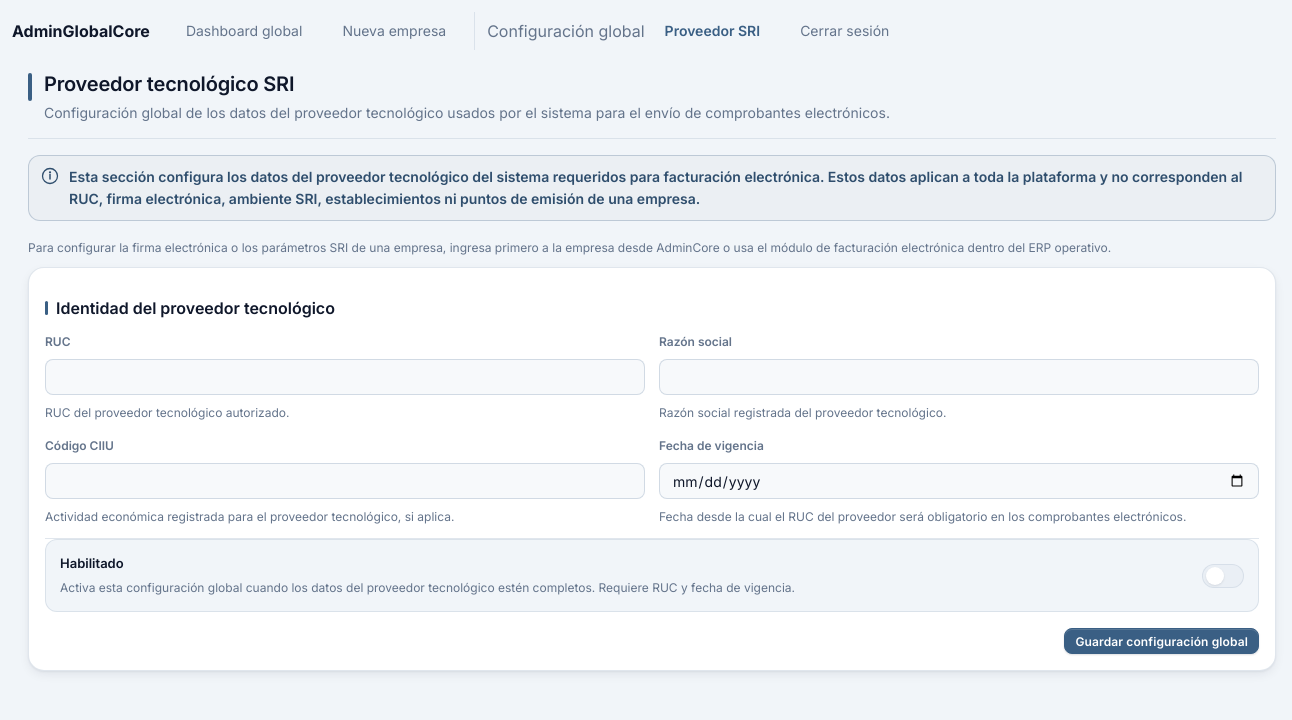
Test: AdminCoreSystemProviderSettingsPage › muestra un error controlado si el guardado falla
Check: the field labelled "RUC RUC del proveedor tecnológico autorizado." is shown, box left=45, top=359, right=645, bottom=395
Click the button "Guardar configuración global" at (1162, 641), box left=1064, top=628, right=1259, bottom=654
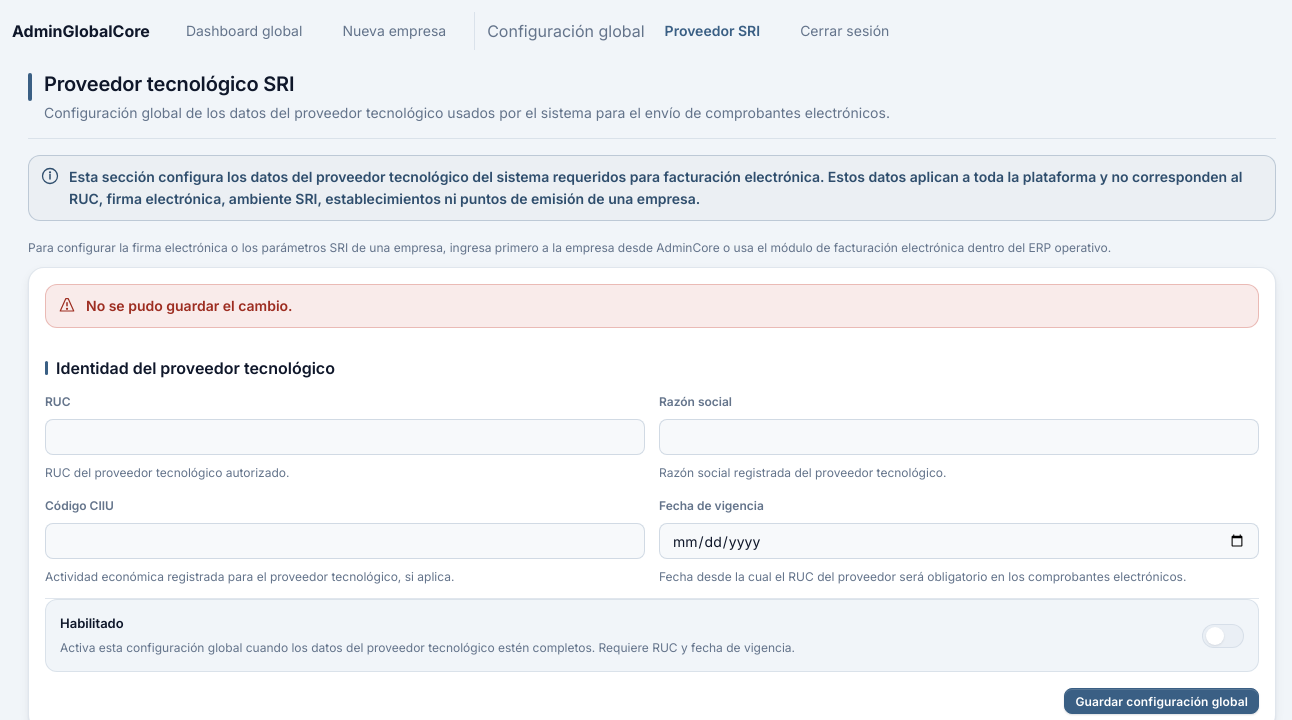
Check: the text "No se pudo guardar el cambio." is shown, box left=86, top=295, right=293, bottom=317
